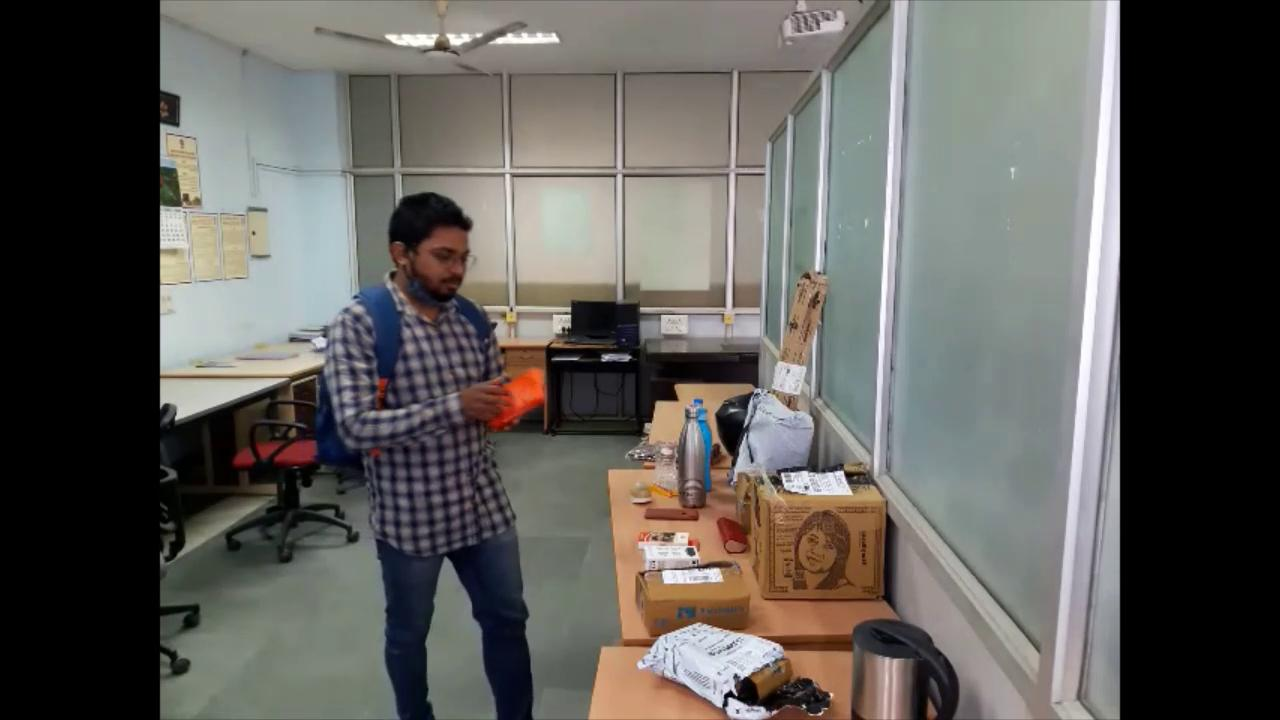Normal: (312, 168, 556, 720)
